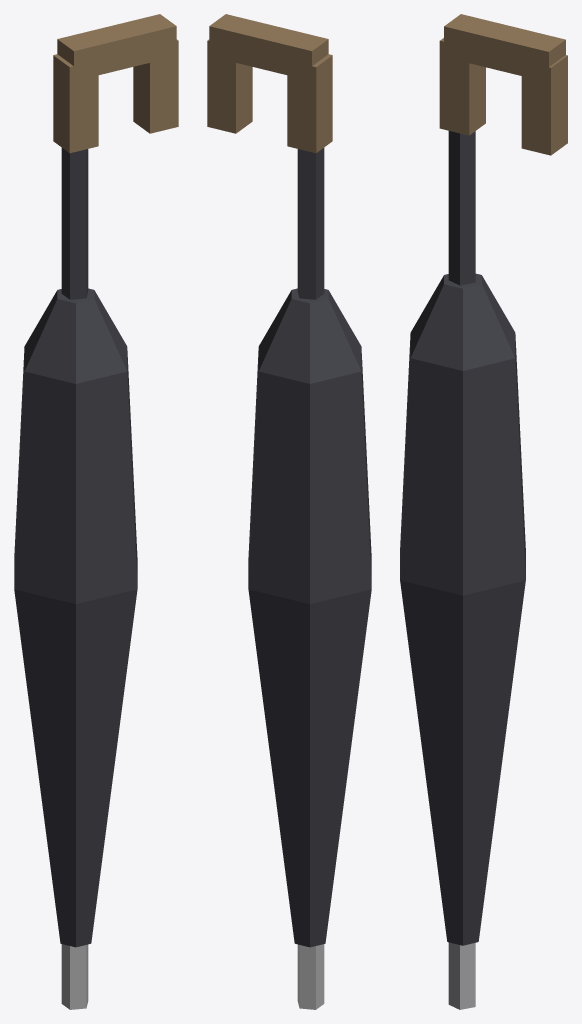
Rendered from item_umbrella.glb.
3 renders of one model, left to right at view 1: azimuth 30°, elevation 25°; view 2: azimuth 150°, elevation 25°; view 3: azimuth 330°, elevation 25°, orthographic. The views are drawn at different scales.
Visible parts, largest first — view 1: Item_umbrella; view 2: Item_umbrella; view 3: Item_umbrella.
Boxes of the visible parts, <box> form: Item_umbrella: <box>14,14,178,1009</box>; Item_umbrella: <box>207,14,371,1009</box>; Item_umbrella: <box>400,14,567,1009</box>.
Bounding box in the file's own units: 0.1216 × 0.7152 × 0.0831.
